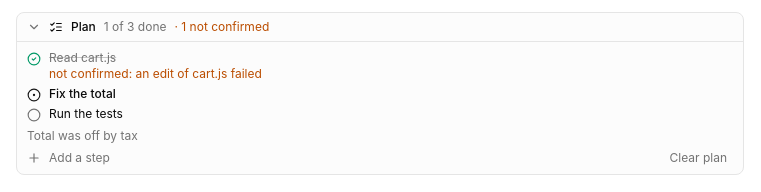
Scenario: PlanPanel › folds to one line with the current step
The image size is (761, 192).
Click the button "Plan 1 of 3 done · 1 not confirmed" at (150, 26), box [17,13,743,41]
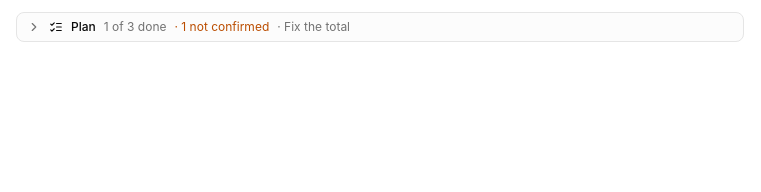
Now the text "· Fix the total" is shown, box [277,19,350,35]
Now the button "Run the tests" is gone
